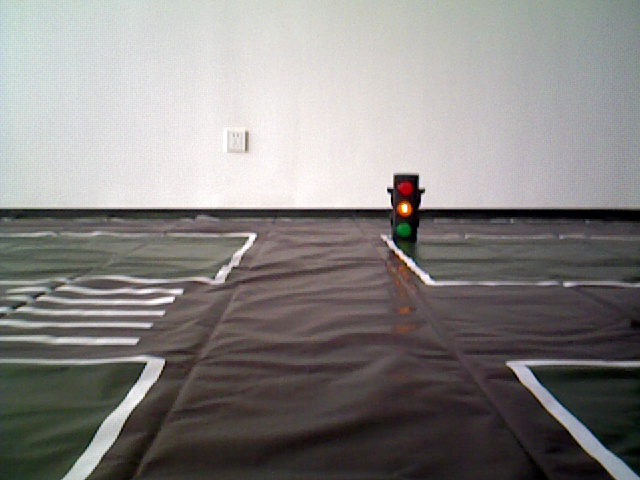yellow: (389, 173, 417, 246)
